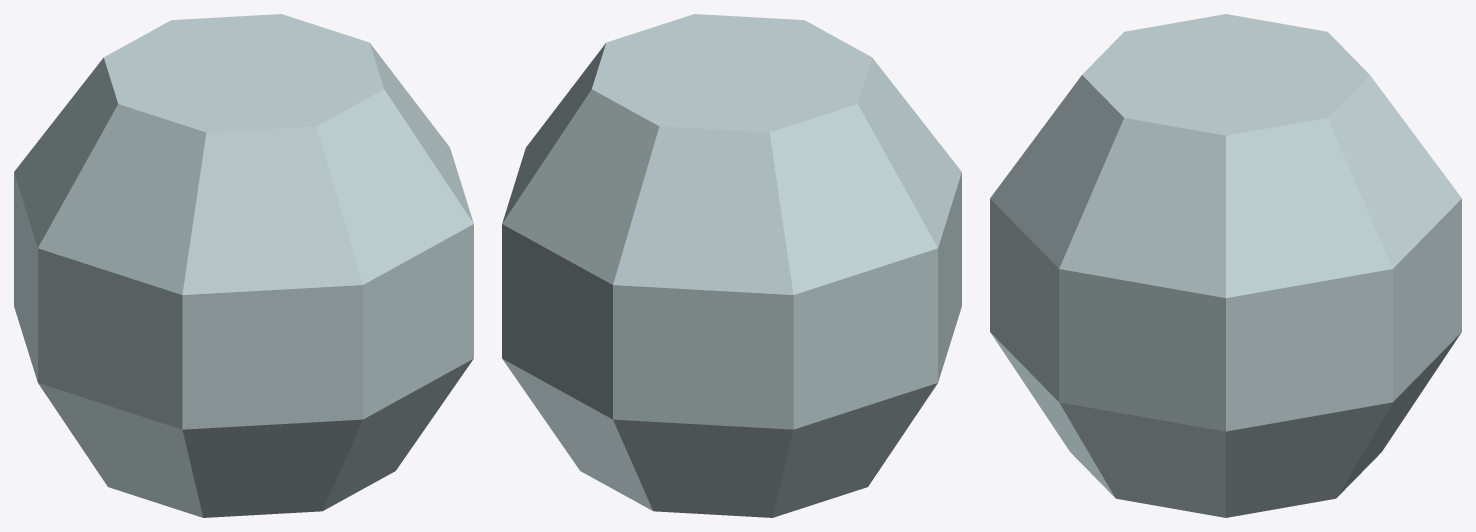
Rendered from stone_smallH.glb.
3 renders of one model, left to right at view 1: azimuth 30°, elevation 25°; view 2: azimuth 150°, elevation 25°; view 3: azimuth 270°, elevation 25°, orthographic.
Parts seen in each view (by area): view 1: stone_smallH; view 2: stone_smallH; view 3: stone_smallH.
Boxes of the visible parts, x1,y1,x2,y2 form: stone_smallH: (14,14,473,517); stone_smallH: (502,14,961,517); stone_smallH: (990,14,1461,517).
Size of the model in its own units: 0.4618 by 0.4074 by 0.4618.
